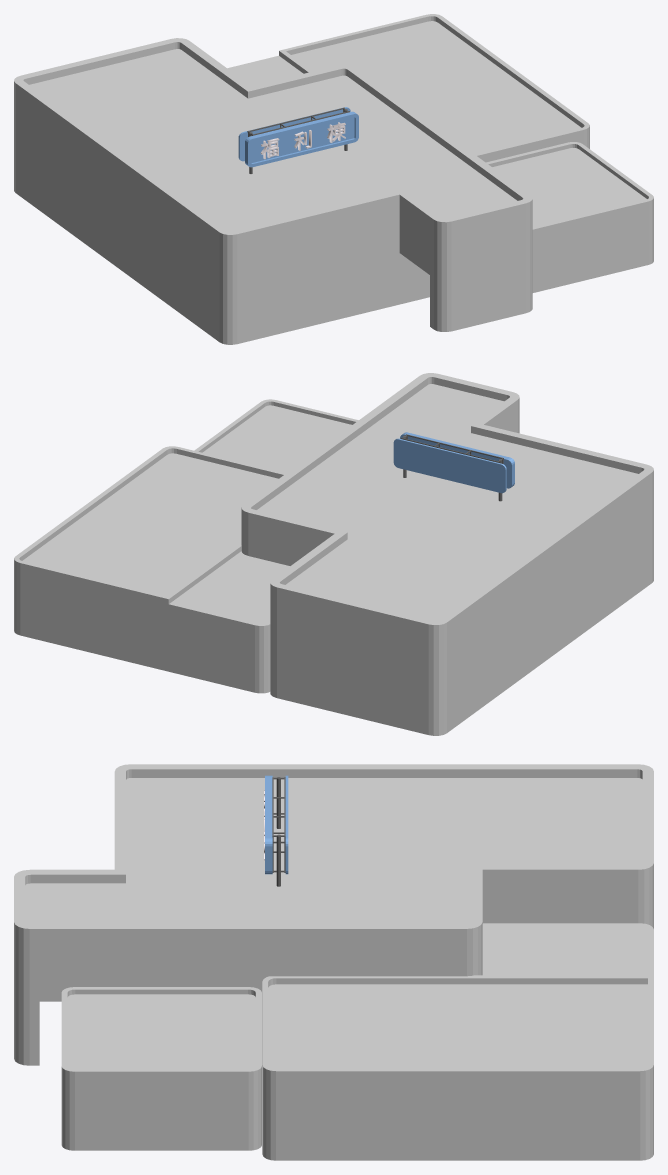
File: map_cafeteria.glb
The picture shows the model from 3 angles, top to bottom: view 1: azimuth 30°, elevation 25°; view 2: azimuth 150°, elevation 25°; view 3: azimuth 270°, elevation 25°; orthographic projection. The views are drawn at different scales.
Visible parts, largest first — view 1: 福利棟, 食堂, 生協, Cube.008, テキスト.006, Cube.009; view 2: 福利棟, 食堂, 生協, Cube.009, Cube.008; view 3: 福利棟, 食堂, 生協, Cube.008.
Part boxes in pixels (x1=…): 福利棟: x1=14, y1=38, x2=532, y2=344; 食堂: x1=227, y1=14, x2=589, y2=162; 生協: x1=486, y1=142, x2=653, y2=292; Cube.008: x1=245, y1=111, x2=358, y2=167; テキスト.006: x1=260, y1=122, x2=345, y2=159; Cube.009: x1=238, y1=107, x2=350, y2=161; 福利棟: x1=241, y1=373, x2=653, y2=735; 食堂: x1=14, y1=446, x2=289, y2=693; 生協: x1=194, y1=399, x2=358, y2=473; Cube.009: x1=393, y1=438, x2=506, y2=493; Cube.008: x1=400, y1=432, x2=514, y2=488; 福利棟: x1=14, y1=764, x2=653, y2=1065; 食堂: x1=262, y1=923, x2=653, y2=1160; 生協: x1=61, y1=987, x2=261, y2=1150; Cube.008: x1=265, y1=775, x2=272, y2=874.
Size of the model in its own units: 32.72 by 10.52 by 34.1.
